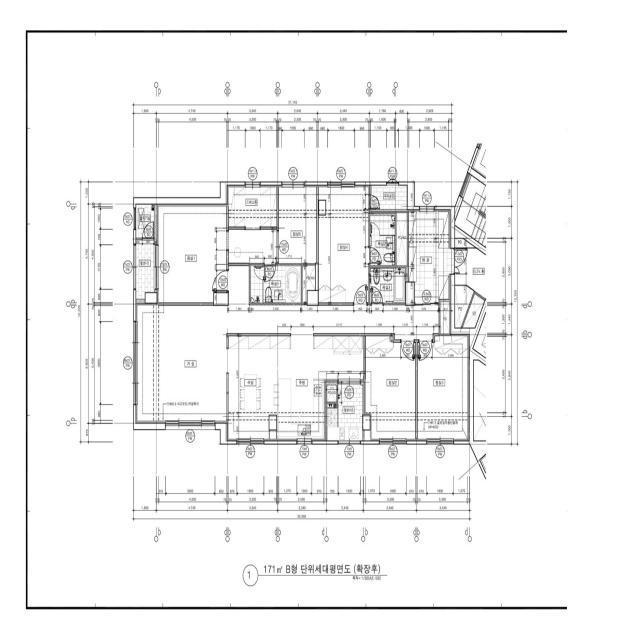space_balconi: (327, 384, 363, 440), (136, 240, 154, 299)
space_bedroom: (157, 204, 226, 302), (319, 185, 369, 302), (364, 336, 416, 441), (418, 335, 469, 441), (279, 185, 316, 263)
space_dressroom: (227, 185, 277, 263)
space_front: (409, 210, 450, 302)
space_kitchen: (227, 336, 364, 441)
space_living_room: (136, 266, 439, 423)
space_other: (371, 186, 407, 209), (397, 212, 407, 266), (303, 266, 315, 303), (440, 302, 450, 334), (327, 385, 336, 402)
space_outdoor_room: (136, 205, 154, 238)
space_toilet: (251, 266, 301, 303), (370, 268, 405, 304), (370, 216, 395, 266)
